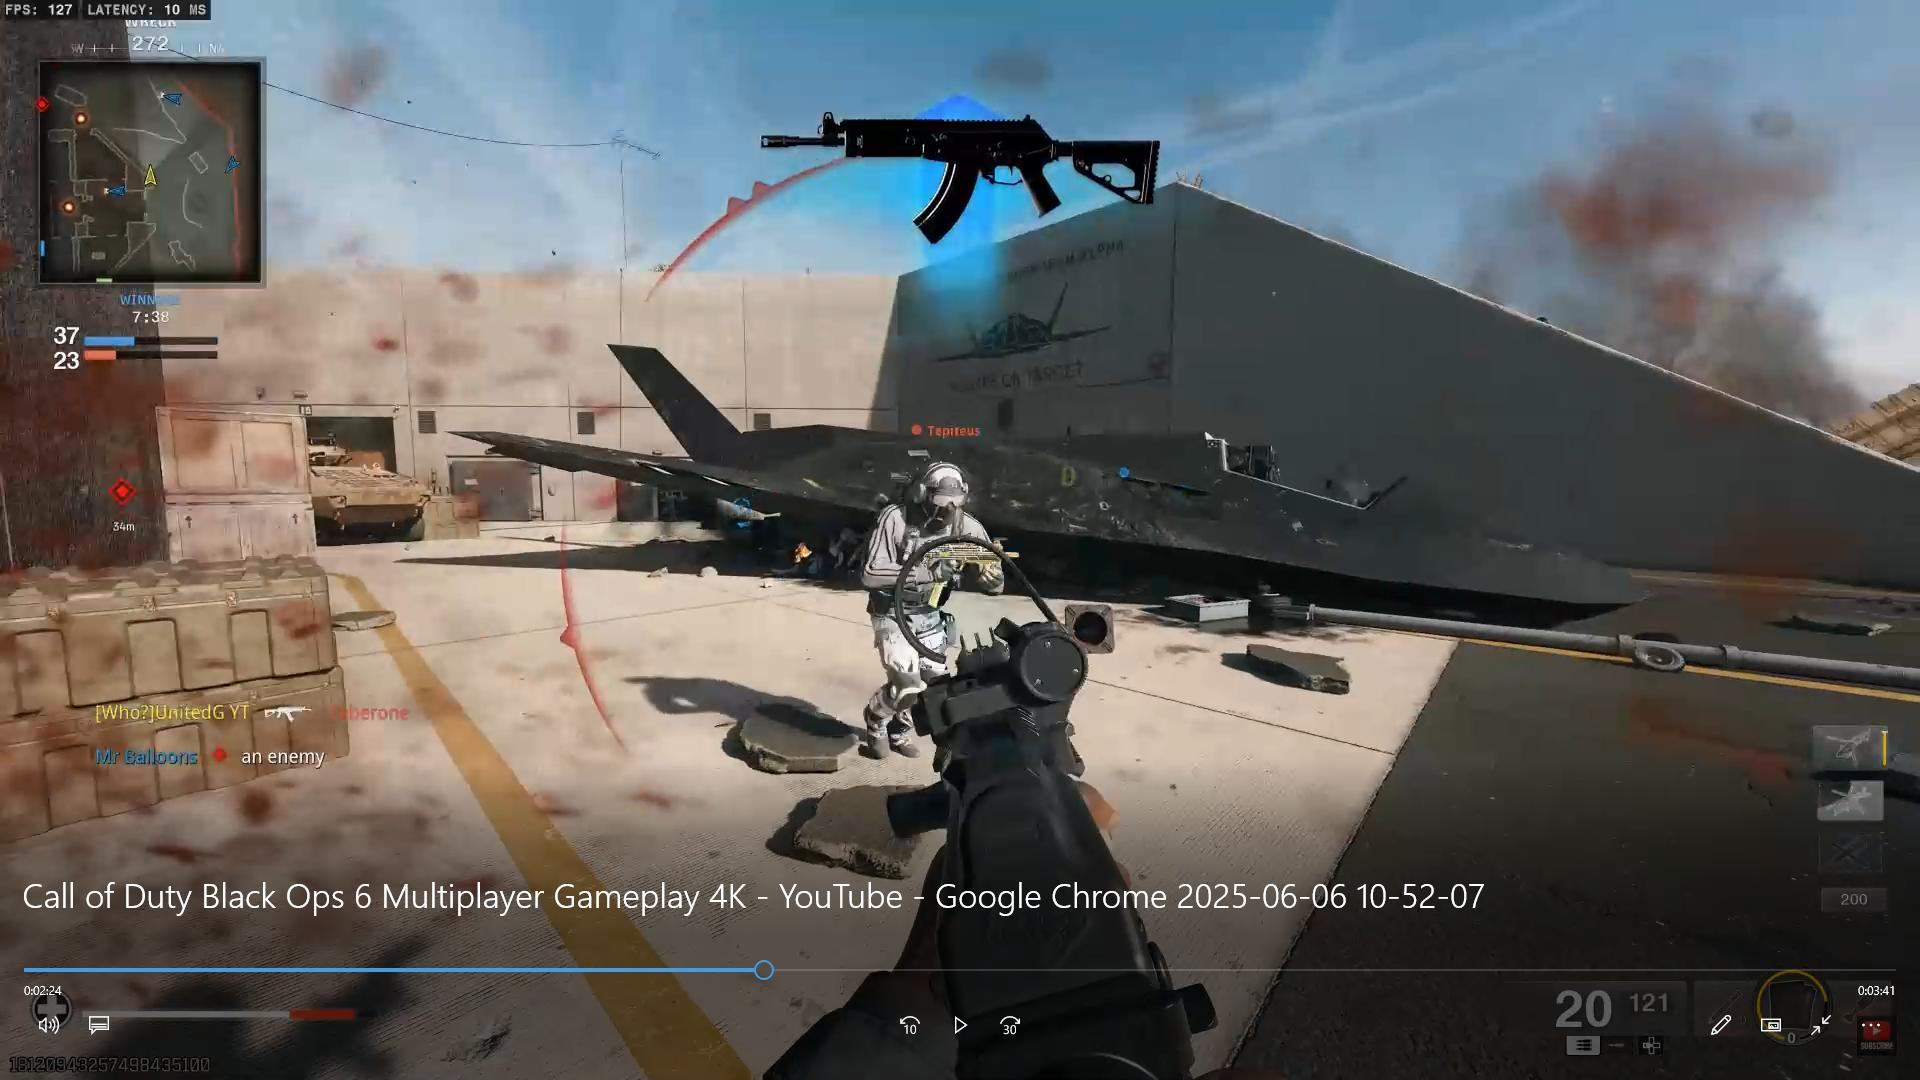Enemy: (860, 392, 1011, 535)
